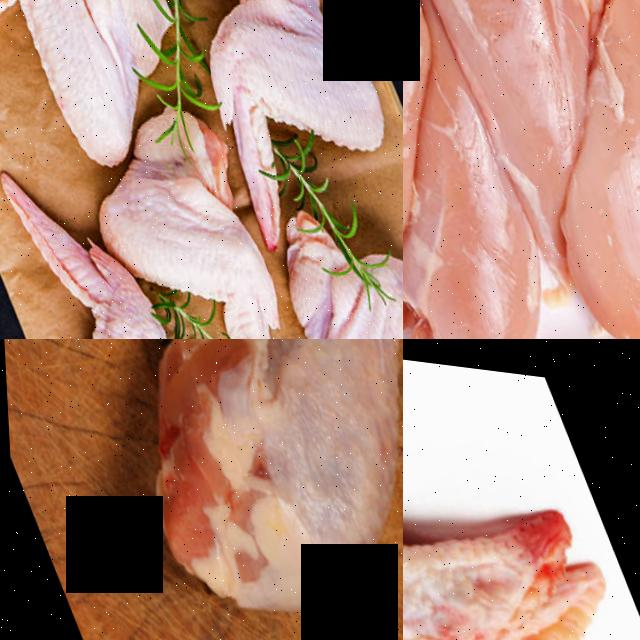chicken breast: (403, 0, 636, 197), (403, 197, 575, 339), (557, 148, 640, 339)
chicken thigh: (24, 339, 403, 640)
chicken wing: (403, 375, 640, 640), (0, 122, 264, 339), (139, 0, 403, 214), (76, 113, 318, 339), (0, 0, 212, 192), (248, 158, 403, 339)
